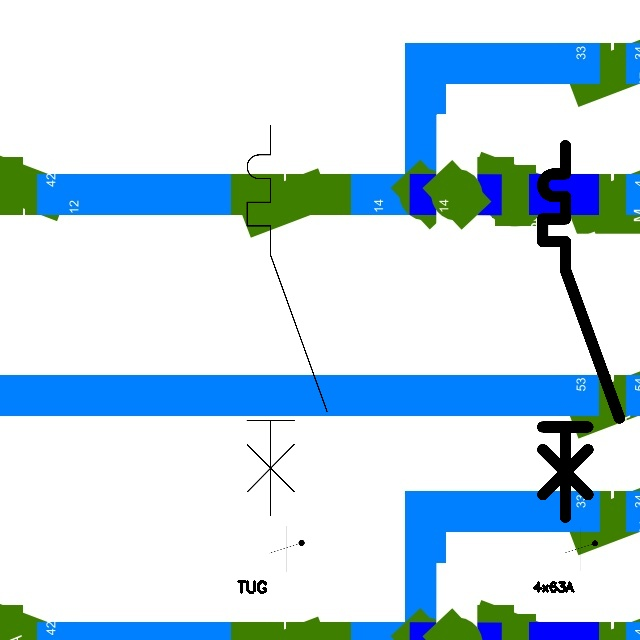interruptor_termomagnetico: (237, 115, 337, 525), (533, 136, 628, 527)
